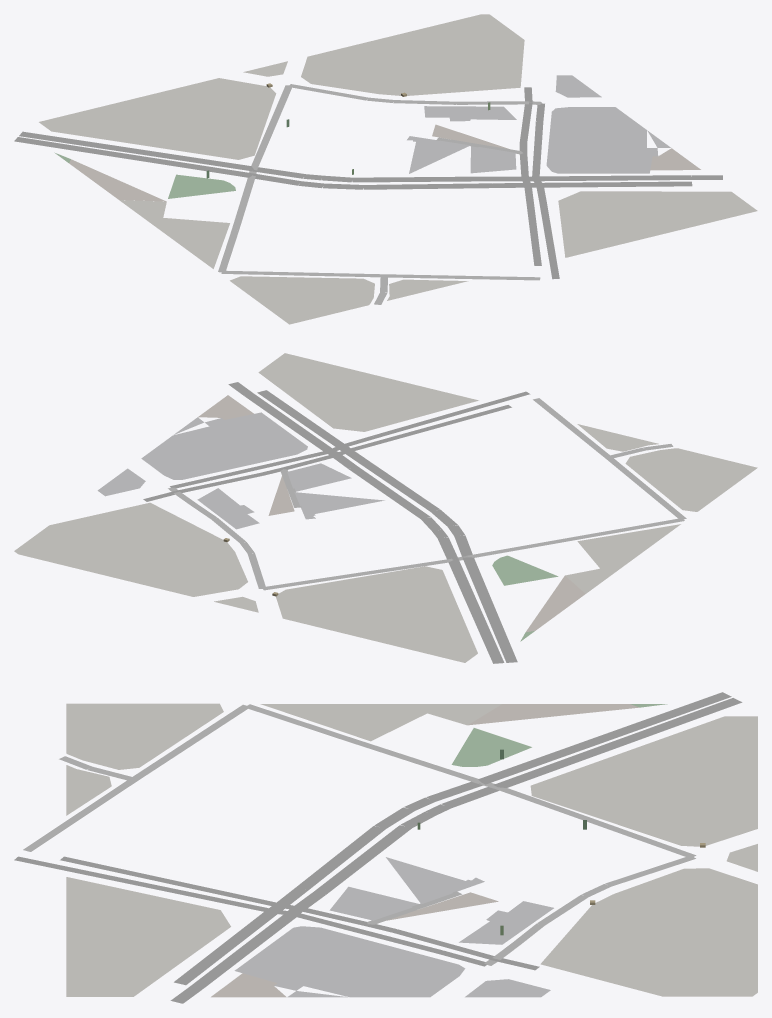
3 views of the same model, one above another, from view 1: azimuth 30°, elevation 25°; view 2: azimuth 150°, elevation 25°; view 3: azimuth 270°, elevation 25° (orthographic). The views are drawn at different scales.
Size of the model in its own units: 531 by 8.68 by 538.
